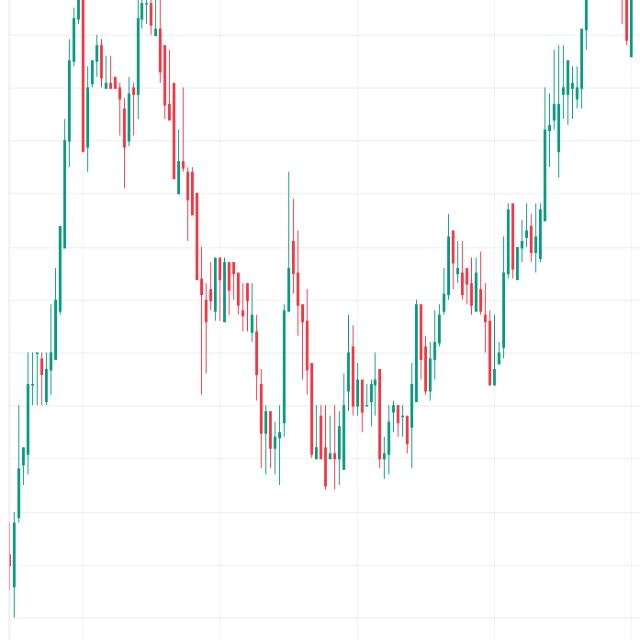Triple-Bottom: (247, 294, 432, 490)
